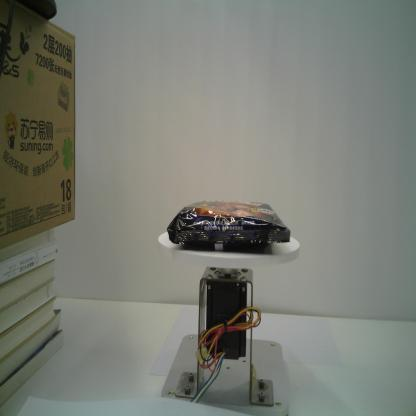Instant Noodles: (166, 198, 291, 253)
